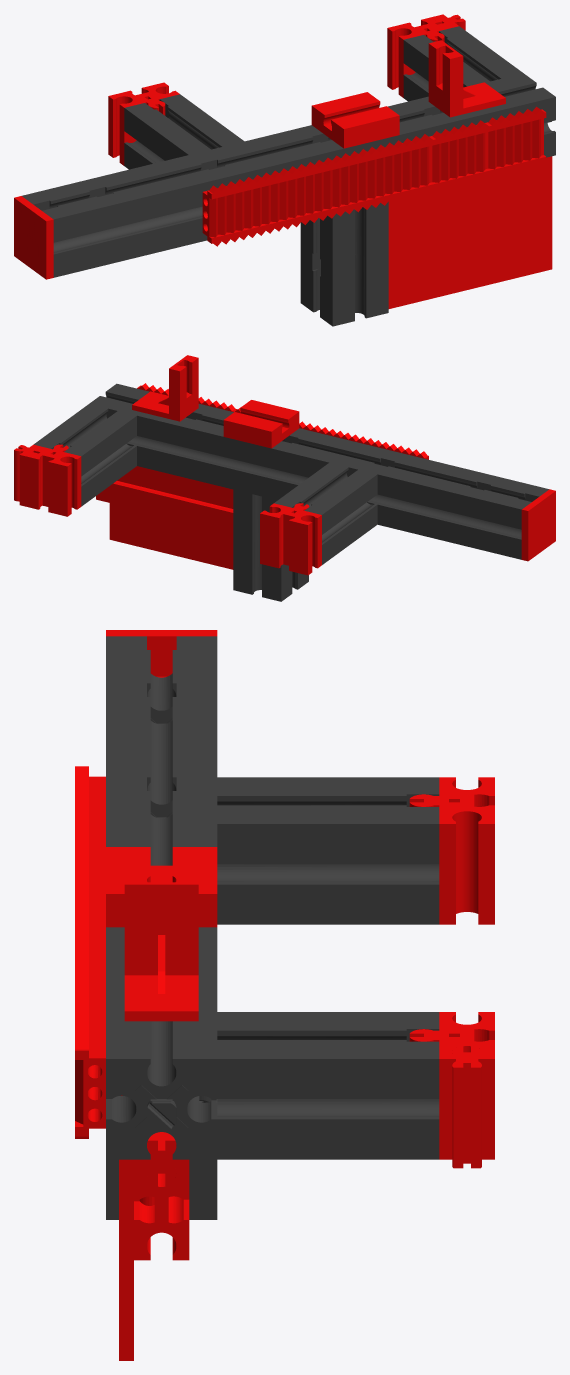
Rendered from pusher1-centered.obj.
3 renders of one model, top to bottom at view 1: azimuth 30°, elevation 25°; view 2: azimuth 150°, elevation 25°; view 3: azimuth 270°, elevation 25°, orthographic. The views are drawn at different scales.
Parts seen in each view (by area): view 1: obj2, obj1, obj3; view 2: obj1, obj2, obj3; view 3: obj1, obj2, obj3.
Part boxes in pixels (<box>): obj2: <box>14,14,552,308</box>; obj1: <box>22,26,555,326</box>; obj3: <box>189,128,332,185</box>; obj1: <box>34,383,549,601</box>; obj2: <box>14,355,555,575</box>; obj3: <box>281,430,404,504</box>; obj1: <box>106,636,439,1219</box>; obj2: <box>75,630,494,1360</box>; obj3: <box>106,777,217,865</box>.
Bounding box in the file's own units: 140 × 62.4 × 56.7.
